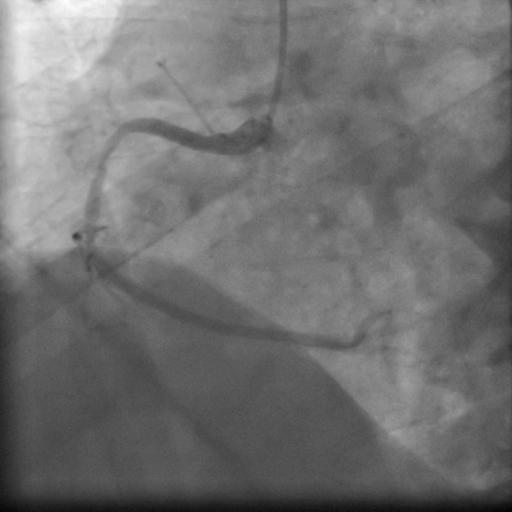Stenosis: (88, 142, 112, 250)
